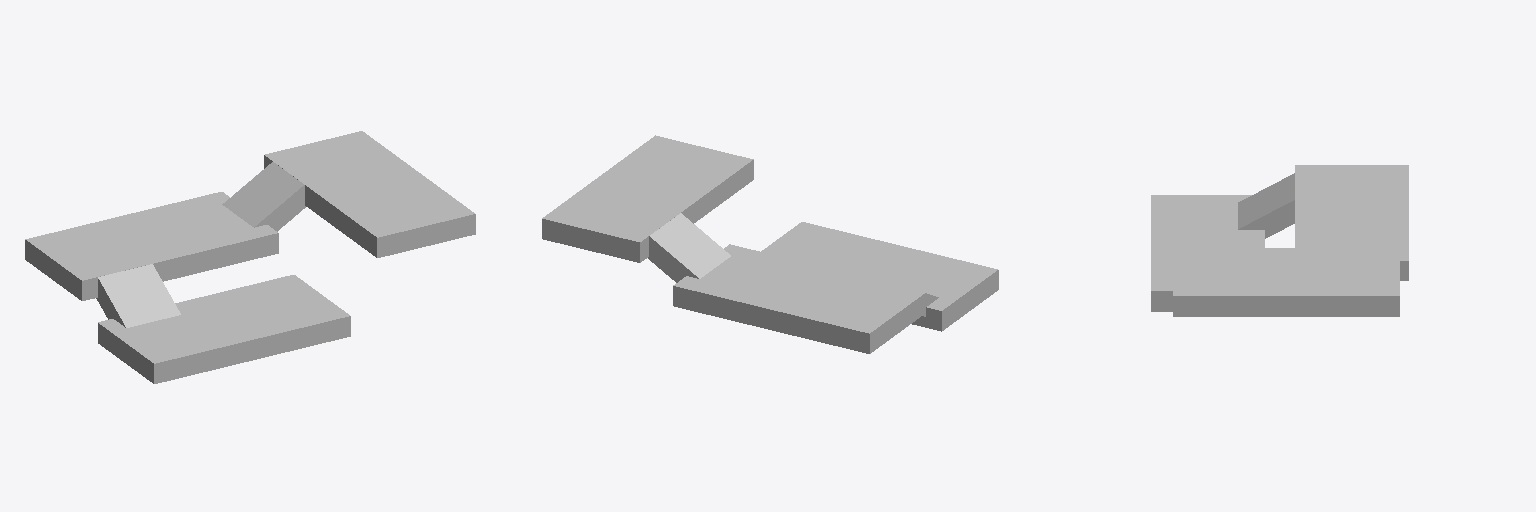
File: stairs.obj
3 renders of one model, left to right at view 1: azimuth 30°, elevation 25°; view 2: azimuth 150°, elevation 25°; view 3: azimuth 270°, elevation 25°, orthographic.
Visible parts, largest first — view 1: Cube.002, Cube.006, Cube.004, Cube.003, Cube.005; view 2: Cube.004, Cube.006, Cube.002, Cube.005; view 3: Cube.006, Cube.004, Cube.002, Cube.003.
Boxes of the visible parts, <box> form: Cube.002: <box>98,275,350,383</box>; Cube.006: <box>264,131,475,257</box>; Cube.004: <box>25,192,278,300</box>; Cube.003: <box>96,264,180,327</box>; Cube.005: <box>222,162,305,231</box>; Cube.004: <box>673,244,925,353</box>; Cube.006: <box>542,135,753,262</box>; Cube.002: <box>761,222,998,331</box>; Cube.005: <box>648,213,730,282</box>; Cube.006: <box>1173,248,1399,316</box>; Cube.004: <box>1295,165,1408,280</box>; Cube.002: <box>1151,195,1264,311</box>; Cube.003: <box>1238,173,1294,238</box>.
Size of the model in its own units: 33.8 by 7.92 by 22.71.